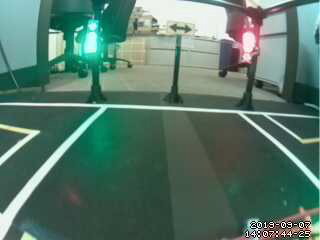Left_Right_sign: (164, 18, 196, 36)
Traffic_light_green: (81, 18, 100, 57)
Traffic_light_red: (239, 28, 261, 62)
